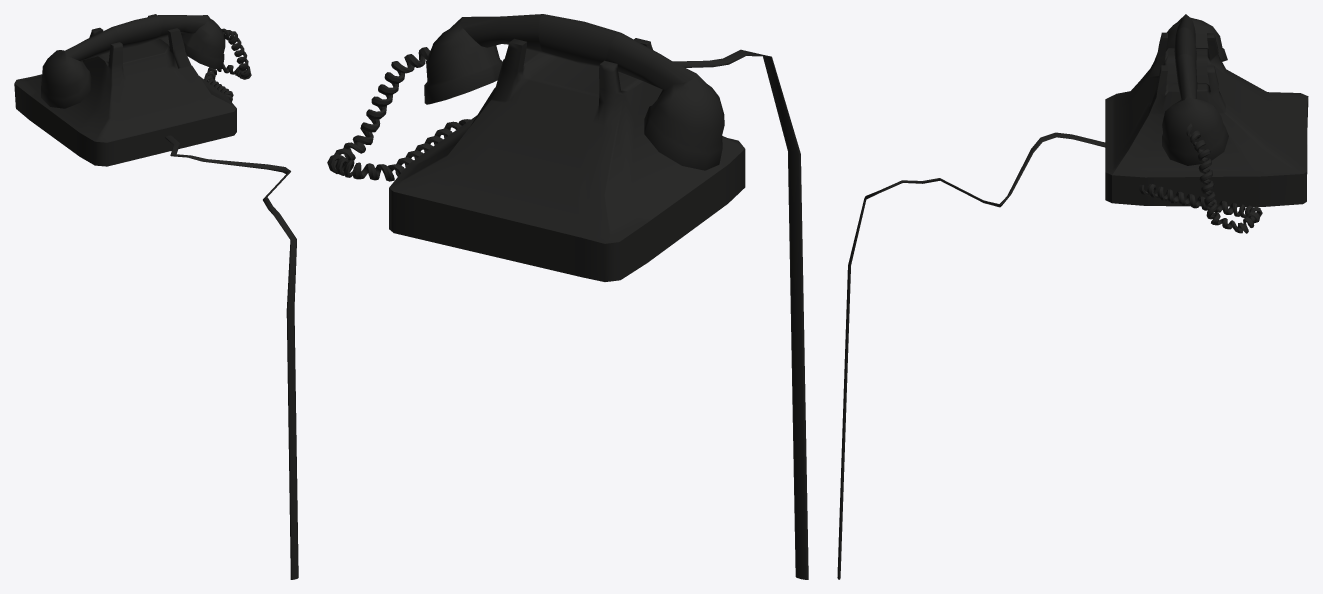
Rendered from mainrotarydialpiece.glb.
3 renders of one model, left to right at view 1: azimuth 30°, elevation 25°; view 2: azimuth 150°, elevation 25°; view 3: azimuth 270°, elevation 25°, orthographic. The views are drawn at different scales.
Parts seen in each view (by area): view 1: mainrotarydialpart, phone2, wire_down, pHelix1; view 2: mainrotarydialpart, phone2, wire_down, pHelix1; view 3: mainrotarydialpart, phone2, pHelix1, wire_down.
Part boxes in pixels (bbox=[...]): mainrotarydialpart: bbox=[14, 14, 236, 166]; phone2: bbox=[41, 15, 225, 108]; wire_down: bbox=[165, 135, 298, 579]; pHelix1: bbox=[204, 28, 251, 101]; mainrotarydialpart: bbox=[389, 38, 745, 281]; phone2: bbox=[424, 14, 724, 170]; wire_down: bbox=[673, 49, 808, 579]; pHelix1: bbox=[327, 43, 470, 181]; mainrotarydialpart: bbox=[1105, 32, 1308, 206]; phone2: bbox=[1162, 14, 1228, 165]; pHelix1: bbox=[1139, 123, 1262, 233]; wire_down: bbox=[837, 132, 1105, 579].
Size of the model in its own units: 0.0754 by 0.1492 by 0.1196.
1 material, 1 textured.
